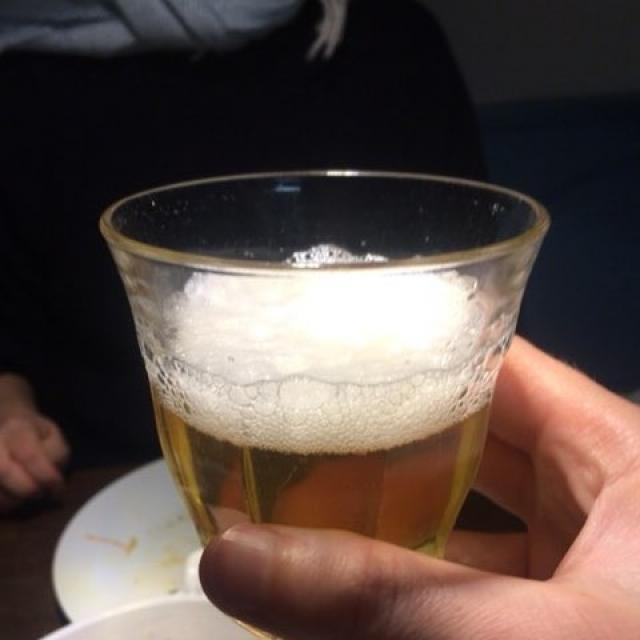beer: (142, 239, 518, 526)
